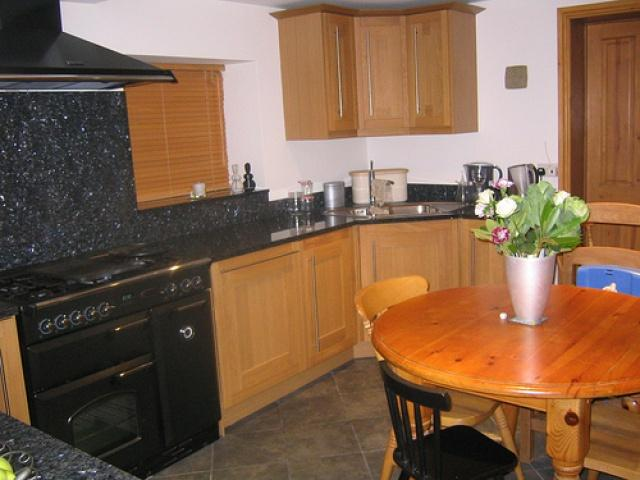Kursi: (377, 359, 519, 479)
Lemari: (268, 0, 486, 140)
Meja: (369, 280, 639, 429)
